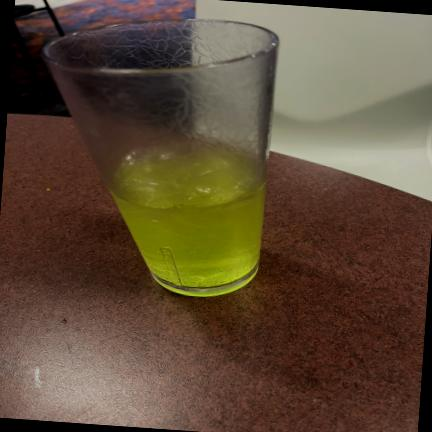container: (42, 19, 278, 296)
fluid: (111, 185, 265, 287)
fluid-surface: (114, 148, 254, 208)
